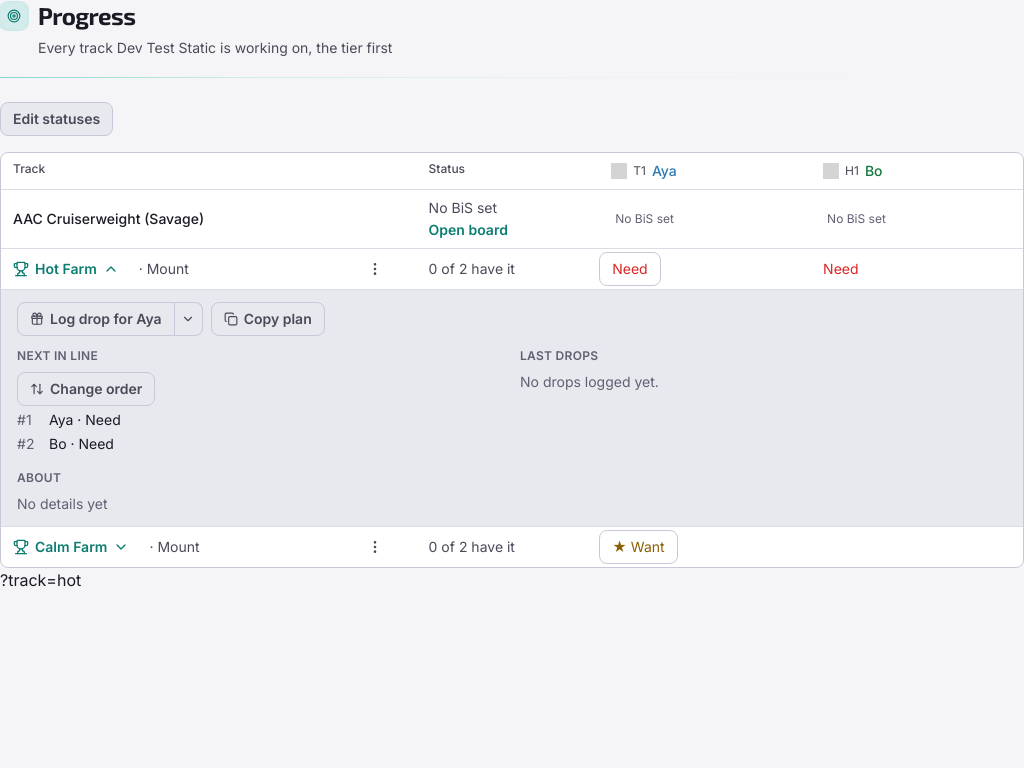
Delete (D-11) › closes only the confirm on Escape, leaving the open row's panel and ?track
Expected: the row with test id "progress-expansion" is shown, [1,290,1023,526]
Click the button named "Actions for Hot Farm".
click(375, 269)  # box [361,255,389,283]
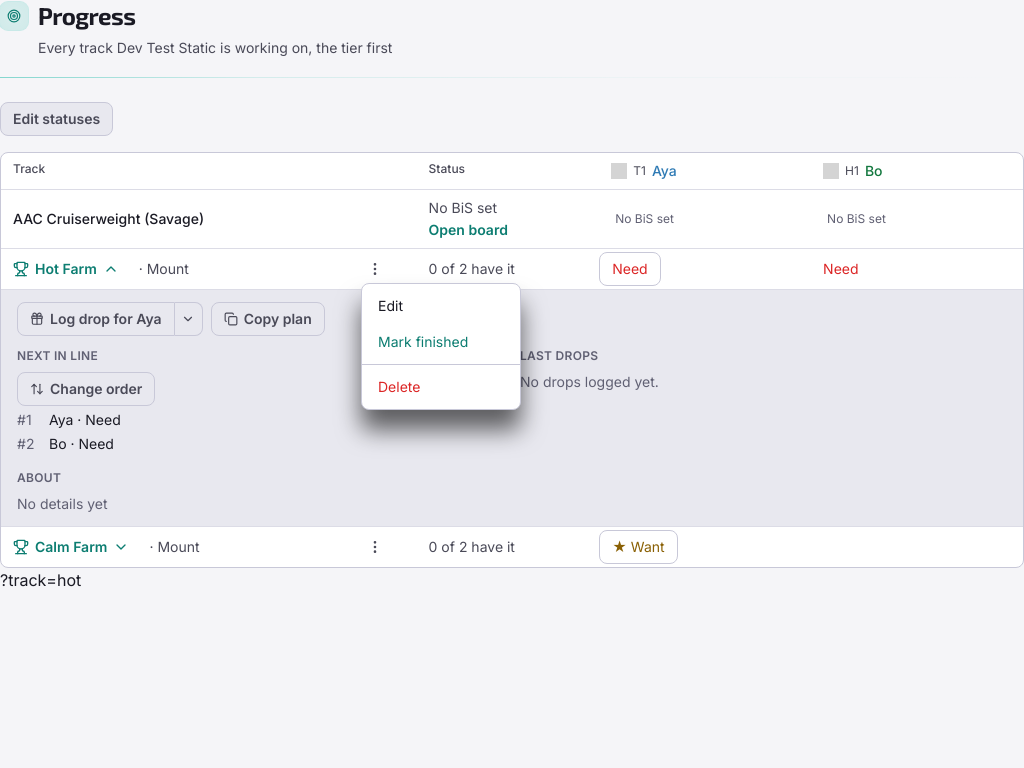
Click the menu item "Delete".
click(441, 387)  # box [362,369,520,405]
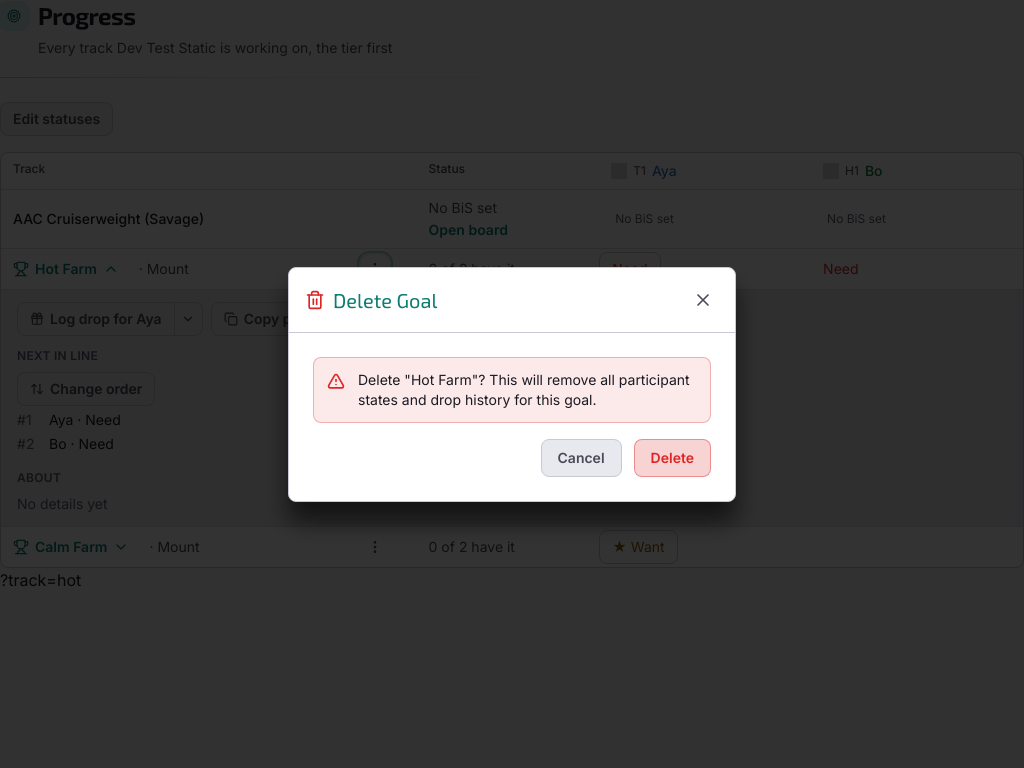
Press Escape in the dialog "Delete Goal", box [288,266,736,502]
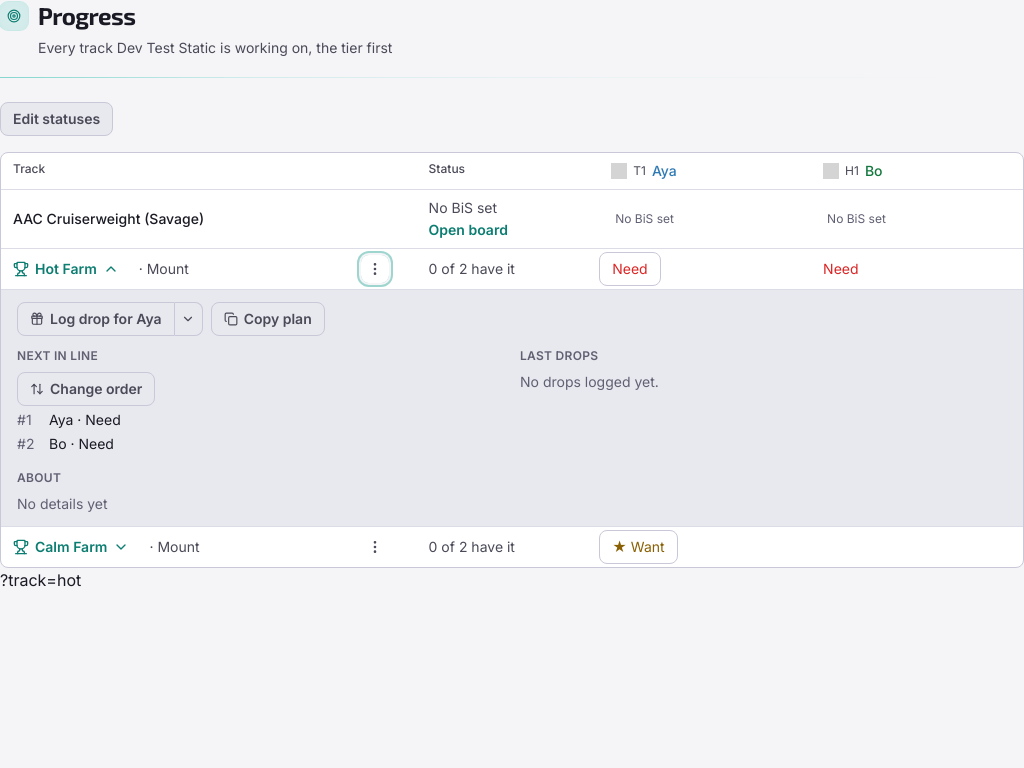
Expected: the row with test id "progress-expansion" is shown, [1,290,1023,526]
Now the dialog is gone
